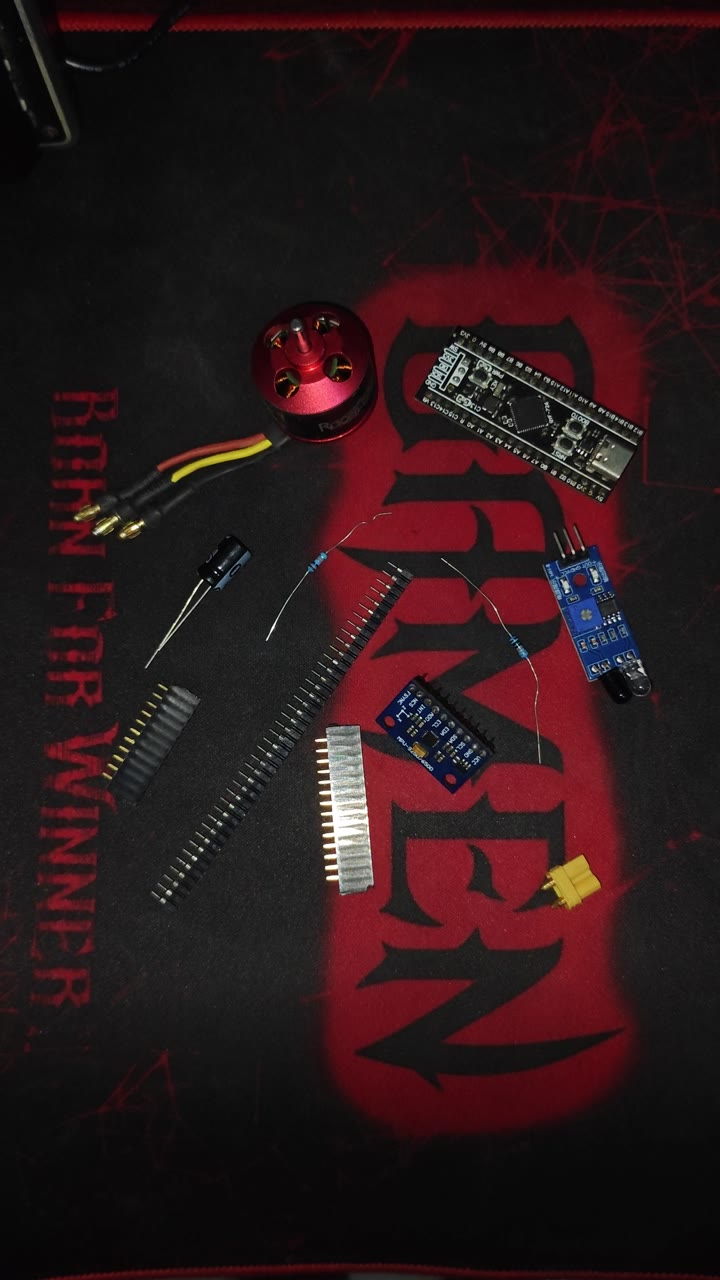bldc_motor: (91, 240, 402, 499)
elco_capacitor: (205, 543, 252, 591)
ir_sensor: (521, 539, 650, 693)
mpu6500: (302, 609, 470, 761)
pin_header: (130, 767, 275, 906), (298, 709, 375, 897), (132, 664, 185, 810)
resistor: (268, 529, 364, 611), (474, 599, 544, 687)
stm32f4: (412, 326, 652, 504)
xt30_female: (538, 852, 603, 912)
